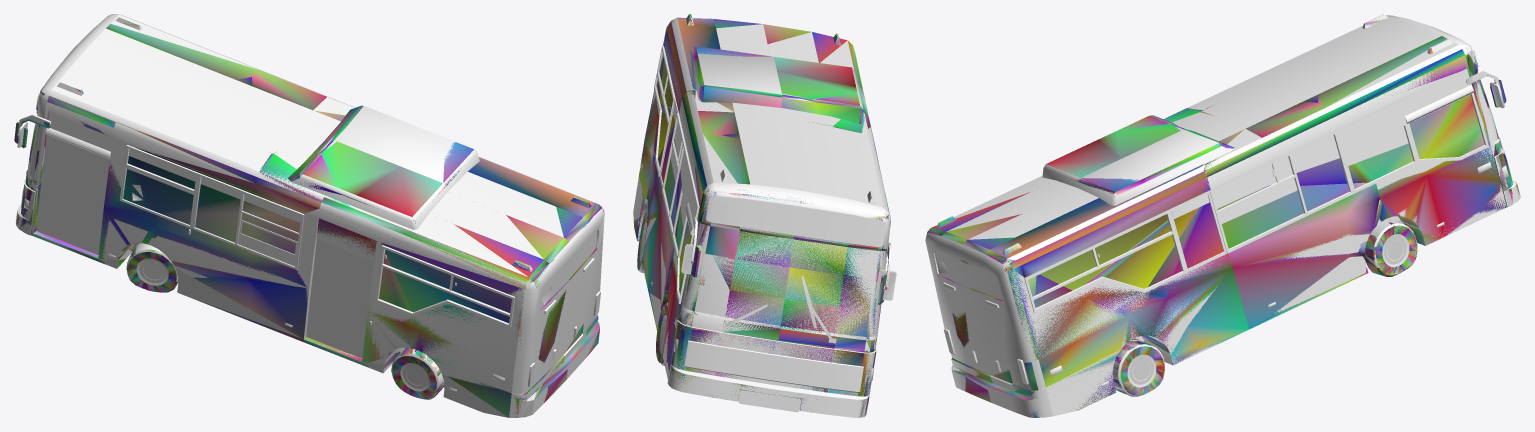
Rendered from Zero_Vehicle_Bus_01.fbx.
3 views of the same model, side by side, from view 1: azimuth 30°, elevation 25°; view 2: azimuth 150°, elevation 25°; view 3: azimuth 270°, elevation 25° (orthographic). The views are drawn at different scales.
Visible parts, largest first — view 1: Zero_Vehicle_Bus_01, Zero_Vehicle_Bus_01_Eff, Zero_Vehicle_Bus_01_Proxy; view 2: Zero_Vehicle_Bus_01, Zero_Vehicle_Bus_01_Eff, Zero_Vehicle_Bus_01_Proxy; view 3: Zero_Vehicle_Bus_01_Eff, Zero_Vehicle_Bus_01, Zero_Vehicle_Bus_01_Proxy.
Boxes of the visible parts, bbox=[...] form: Zero_Vehicle_Bus_01: bbox=[15, 14, 604, 417]; Zero_Vehicle_Bus_01_Eff: bbox=[14, 21, 604, 417]; Zero_Vehicle_Bus_01_Proxy: bbox=[18, 90, 601, 417]; Zero_Vehicle_Bus_01: bbox=[633, 17, 896, 417]; Zero_Vehicle_Bus_01_Eff: bbox=[633, 14, 890, 417]; Zero_Vehicle_Bus_01_Proxy: bbox=[641, 176, 895, 409]; Zero_Vehicle_Bus_01_Eff: bbox=[927, 18, 1519, 417]; Zero_Vehicle_Bus_01: bbox=[925, 14, 1520, 417]; Zero_Vehicle_Bus_01_Proxy: bbox=[934, 47, 1517, 416].
Size of what is drawn, in the model's own units: 8.44 by 5.41 by 10.85.
